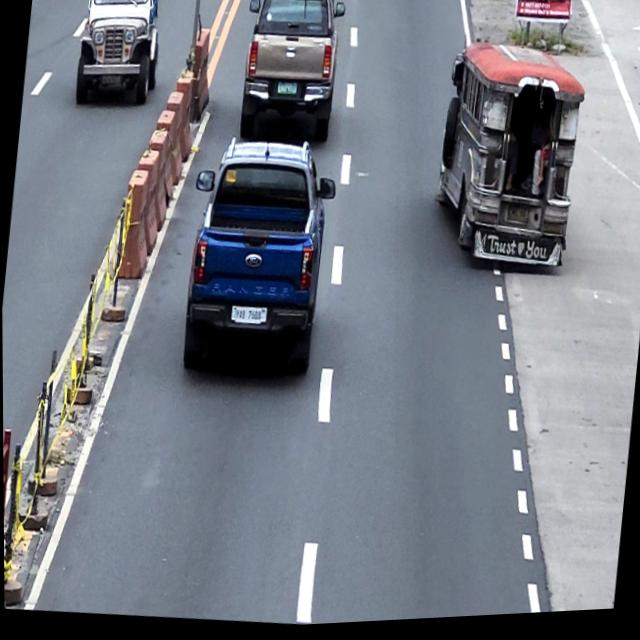Car: (175, 130, 341, 385), (234, 0, 348, 149), (72, 0, 167, 110)
Jeep: (427, 37, 590, 282)
License-Plate: (228, 303, 267, 329), (505, 209, 532, 229), (276, 82, 297, 99), (100, 74, 121, 88)
